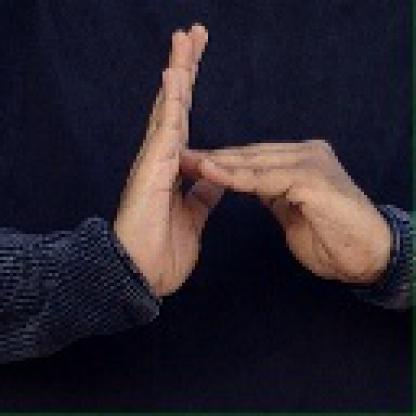Z: (124, 22, 354, 286)
